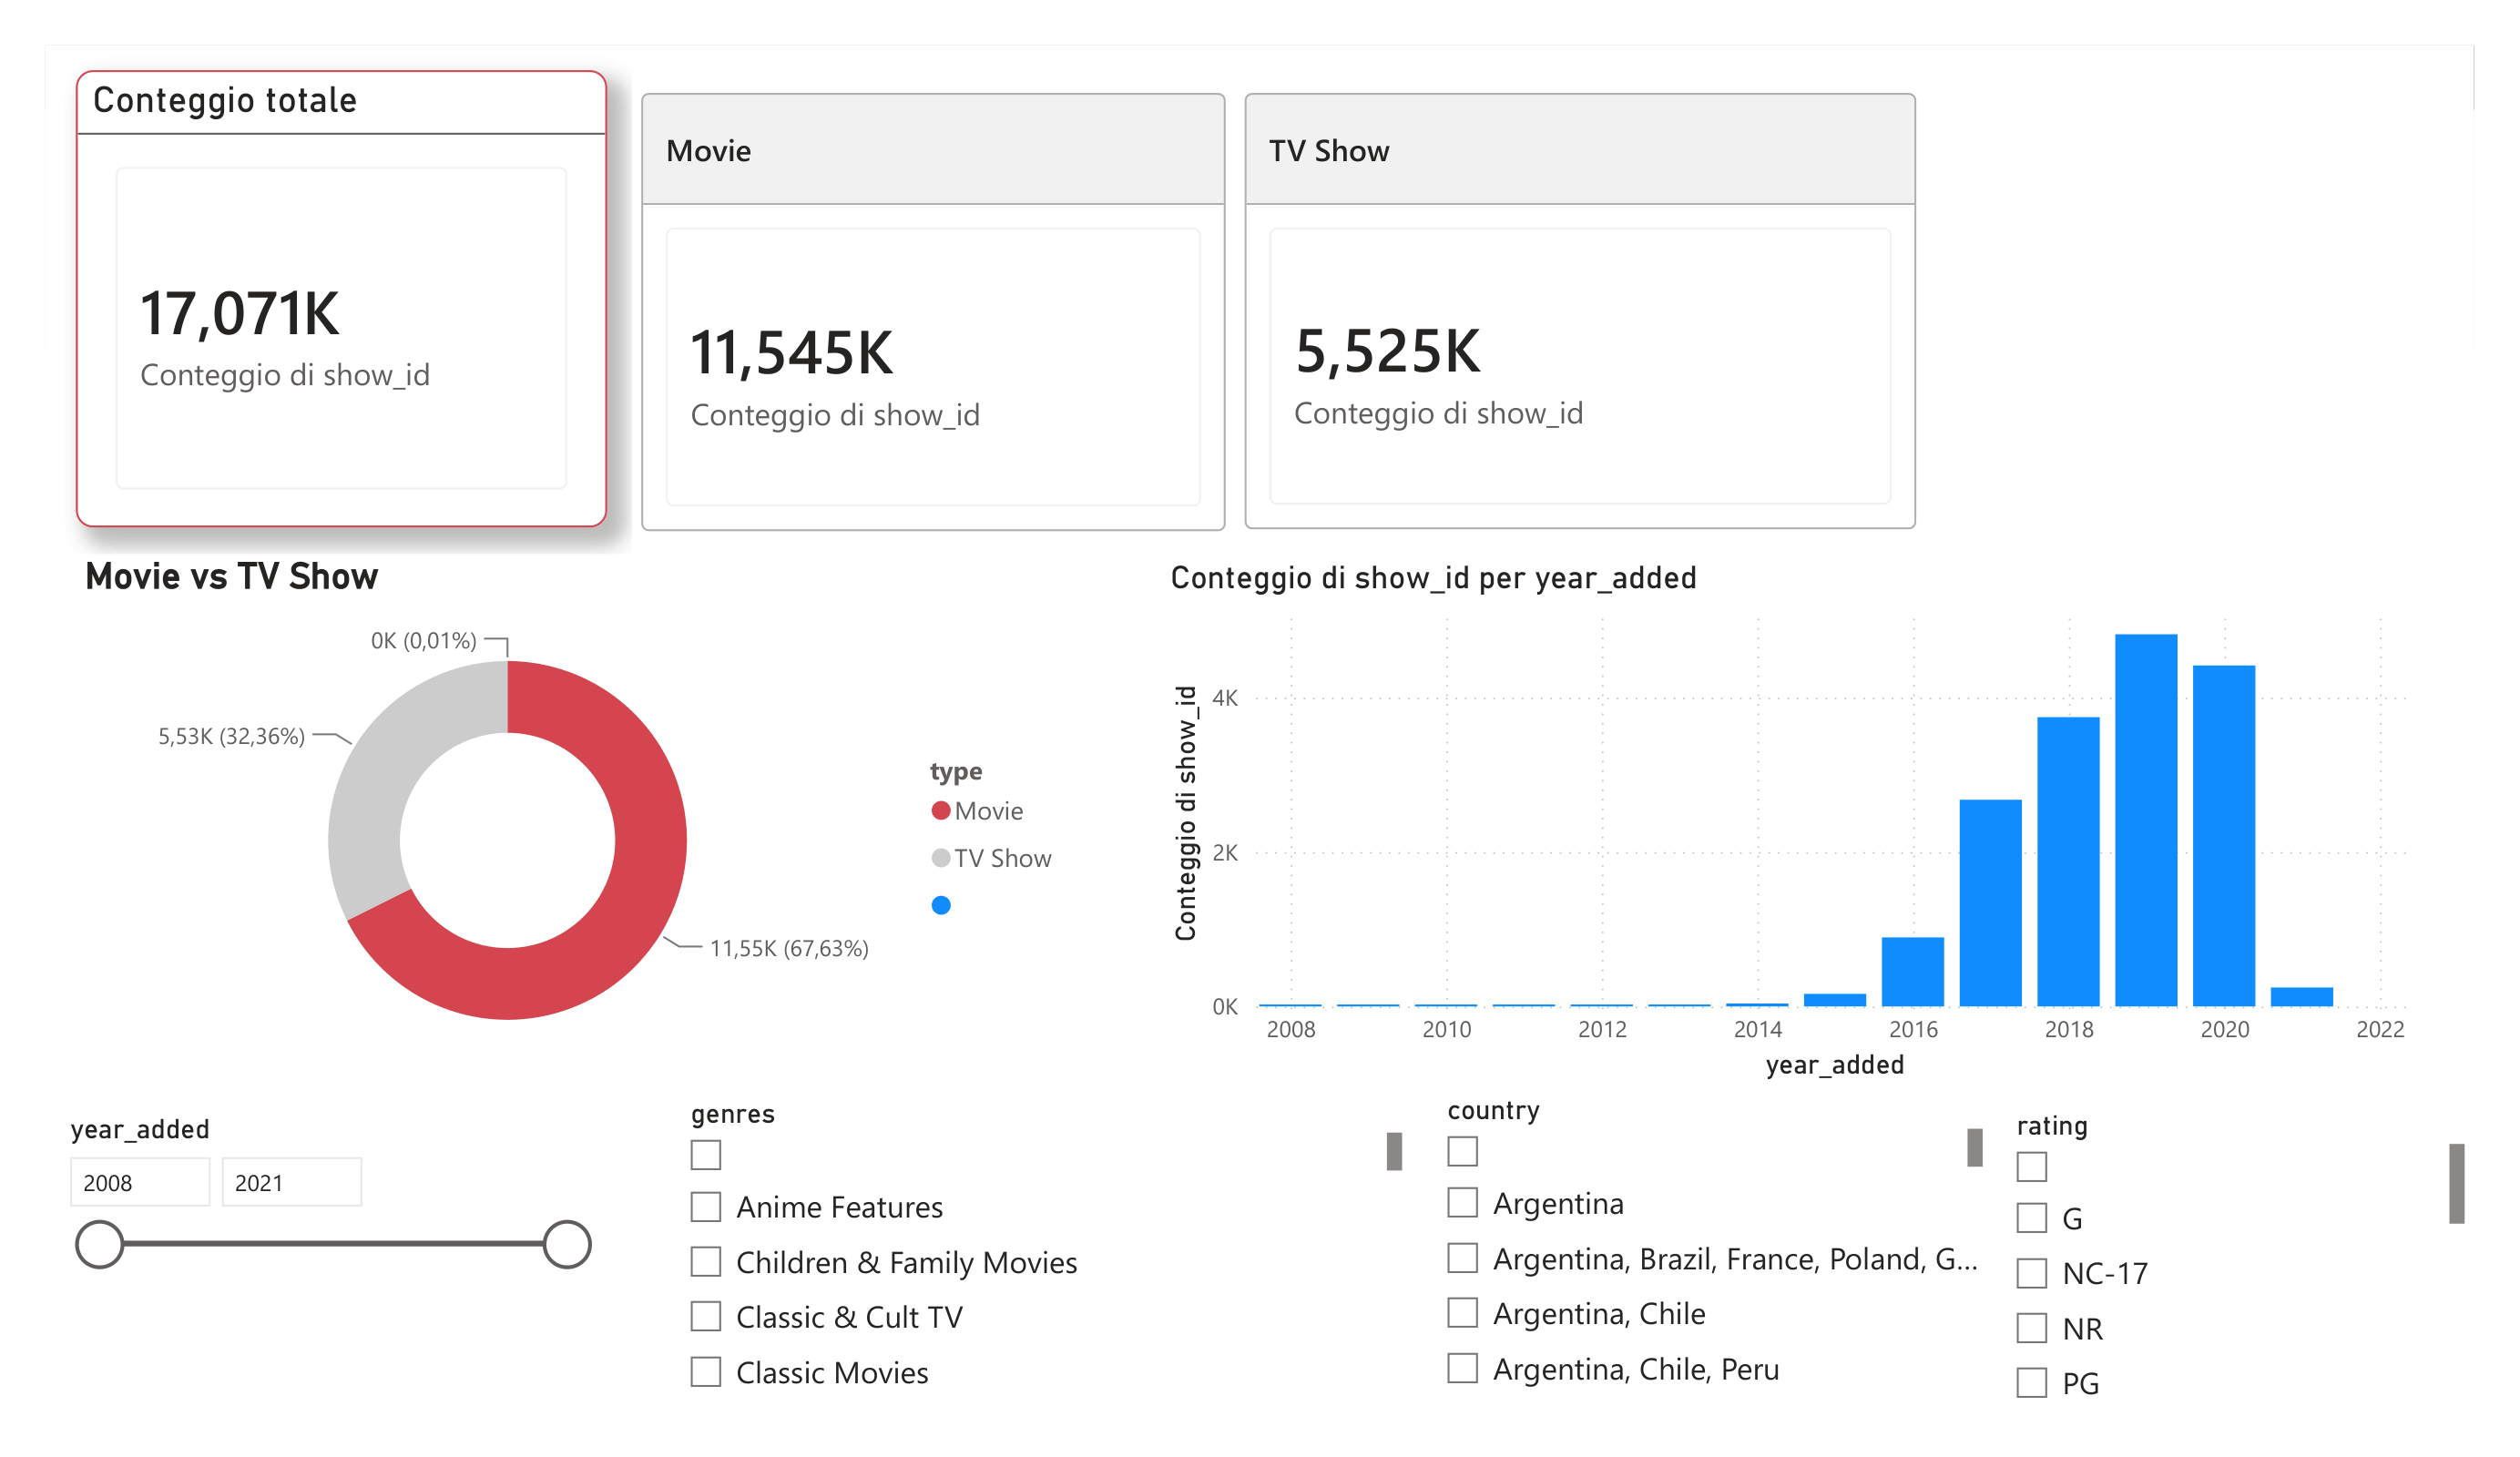

The page's visual inventory and layout, read from the dashboard file:
{"tool":"powerbi","page":{"name":"Overview","canvas":[1280,720],"ordinal":0},"visuals":[{"type":"cardVisual","title":"Conteggio totale","fields":{"Data":["CountNonNull(NetFlix (2).show_id)"]},"box":[16,12.8,279.7,241.3],"z":0},{"type":"cardVisual","fields":{"Data":["CountNonNull(NetFlix (2).show_id)"],"Rows":["NetFlix (2).type"]},"box":[308.7,0,318,281.1],"z":1},{"type":"cardVisual","fields":{"Data":["CountNonNull(NetFlix (2).show_id)"],"Rows":["NetFlix (2).type"]},"box":[626.7,0,364,279.9],"z":2},{"type":"donutChart","title":"Movie vs TV Show","fields":{"Category":["NetFlix (2).type"],"Y":["CountNonNull(NetFlix (2).show_id)"]},"box":[16,268.5,528.9,279.7],"z":3},{"type":"columnChart","fields":{"Category":["NetFlix (2).year_added"],"Y":["CountNonNull(NetFlix (2).show_id)"]},"box":[588.1,270.1,664.8,279.7],"z":5},{"type":"slicer","fields":{"Values":["NetFlix (2).country"]},"box":[725.8,548.4,300.7,171.6],"z":6},{"type":"slicer","fields":{"Values":["NetFlix (2).rating"]},"box":[1026.4,556.4,253.4,163.6],"z":7},{"type":"slicer","fields":{"Values":["NetFlix (2).year_added"]},"box":[0,557.6,296.1,162.4],"z":8},{"type":"slicer","fields":{"Values":["NetFlix (2).genres"]},"box":[327.2,549.5,392.8,163.6],"z":9}]}

Visuals, with their boxes on the page's 1280x720 design canvas (x1, y1, x2, y2). These are canvas units, not pixel positions in the 2520x1457 screenshot, which may show the page scaled, cropped or inside an application window:
"Conteggio totale" cardVisual: l=16, t=13, r=296, b=254
cardVisual - CountNonNull(NetFlix (2).show_id) x NetFlix (2).type: l=309, t=0, r=627, b=281
cardVisual - CountNonNull(NetFlix (2).show_id) x NetFlix (2).type: l=627, t=0, r=991, b=280
"Movie vs TV Show" donutChart: l=16, t=268, r=545, b=548
columnChart - NetFlix (2).year_added x CountNonNull(NetFlix (2).show_id): l=588, t=270, r=1253, b=550
slicer - NetFlix (2).country: l=726, t=548, r=1026, b=720
slicer - NetFlix (2).rating: l=1026, t=556, r=1280, b=720
slicer - NetFlix (2).year_added: l=0, t=558, r=296, b=720
slicer - NetFlix (2).genres: l=327, t=550, r=720, b=713
